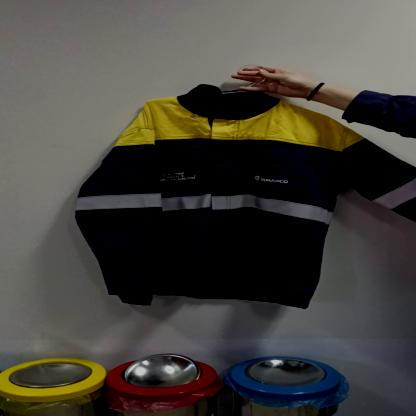C_eletrica: (72, 91, 416, 312)
